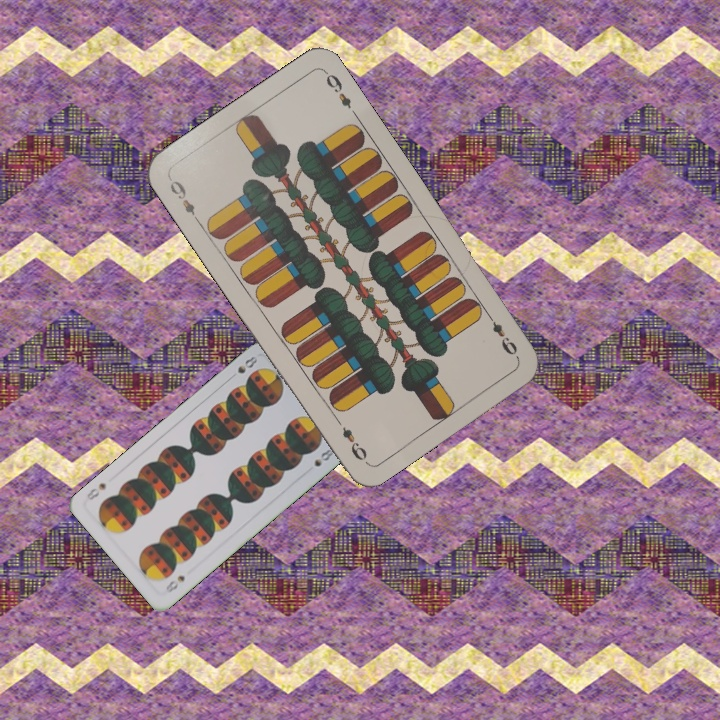E9: (482, 309, 520, 358), (166, 176, 203, 226)
S8: (225, 352, 260, 382), (162, 571, 188, 596)
